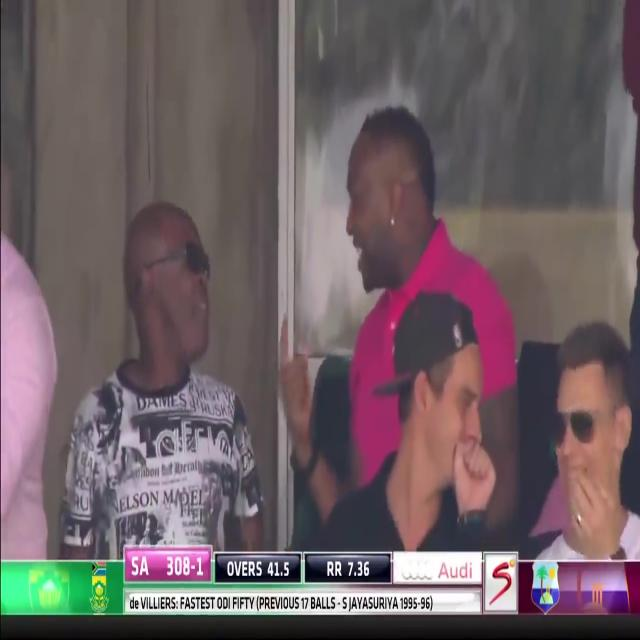Ball: (59, 1, 256, 562), (326, 73, 548, 555)
